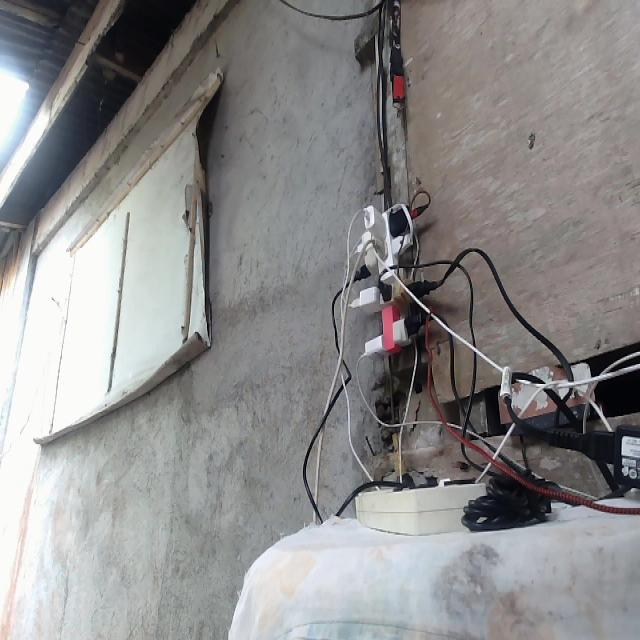-: (348, 199, 440, 357)
